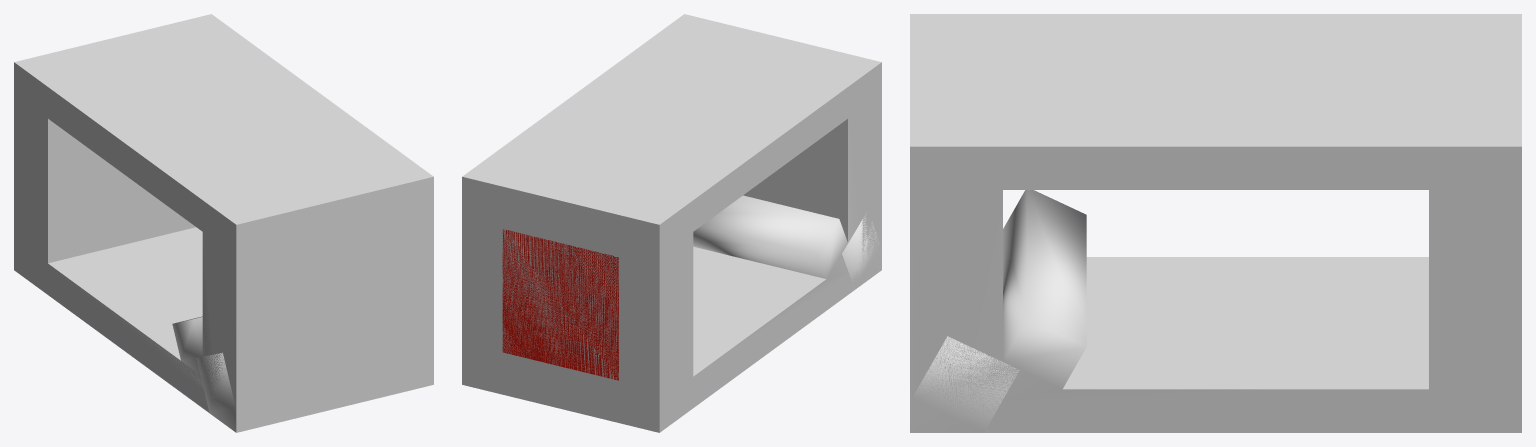
The model's file is kopke.fbx.
3 renders of one model, left to right at view 1: azimuth 30°, elevation 25°; view 2: azimuth 150°, elevation 25°; view 3: azimuth 270°, elevation 25°, orthographic. The views are drawn at different scales.
Visible parts, largest first — view 1: Cube.001, Cube.002, Cube.003; view 2: Cube.001, Cube.002, Cube.004, Cube.003; view 3: Cube.002, Cube.001, Cube.003.
Part boxes in pixels (box(x1,y1,x2,y2)): Cube.001: box(14, 14, 433, 432); Cube.002: box(15, 64, 235, 425); Cube.003: box(16, 227, 234, 429); Cube.001: box(462, 14, 881, 432); Cube.002: box(660, 64, 880, 431); Cube.004: box(462, 88, 881, 432); Cube.003: box(663, 120, 880, 429); Cube.002: box(912, 147, 1519, 431); Cube.001: box(910, 14, 1521, 432); Cube.003: box(912, 148, 1428, 428).
Bounding box in the file's own units: 388 × 390 × 756.
